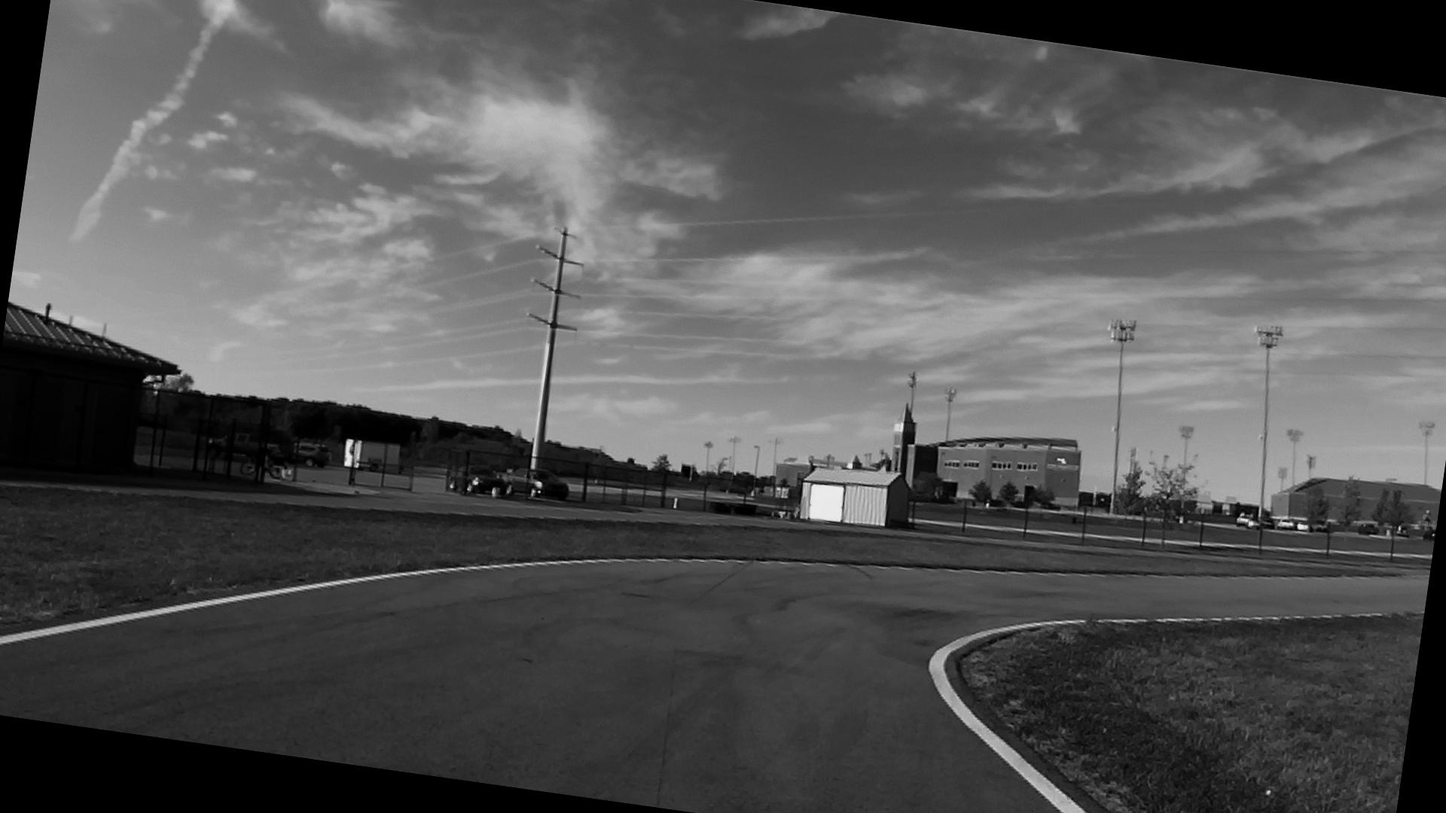white-line: (927, 612, 1389, 813), (0, 558, 747, 645)
